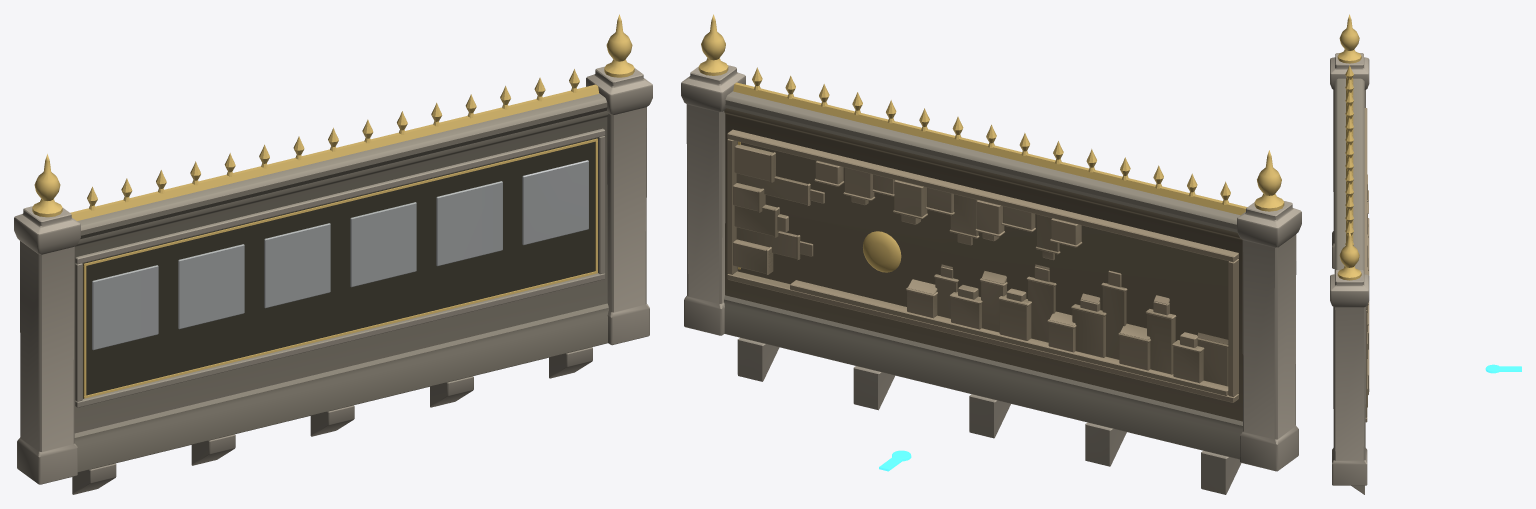
Rendered from mural.glb.
3 renders of one model, left to right at view 1: azimuth 30°, elevation 25°; view 2: azimuth 150°, elevation 25°; view 3: azimuth 270°, elevation 25°, orthographic. The views are drawn at different scales.
Parts seen in each view (by area): view 1: mural_body, mural_gilt; view 2: mural_body, mural_gilt; view 3: mural_body, mural_gilt.
Boxes of the visible parts, x1,y1,x2,y2 form: mural_body: (14, 66, 652, 494); mural_gilt: (32, 14, 634, 398); mural_body: (681, 65, 1301, 494); mural_gilt: (698, 14, 1284, 272); mural_body: (1330, 53, 1369, 494); mural_gilt: (1337, 14, 1361, 280).
Size of the model in its own units: 9.3 by 5.15 by 3.23.
